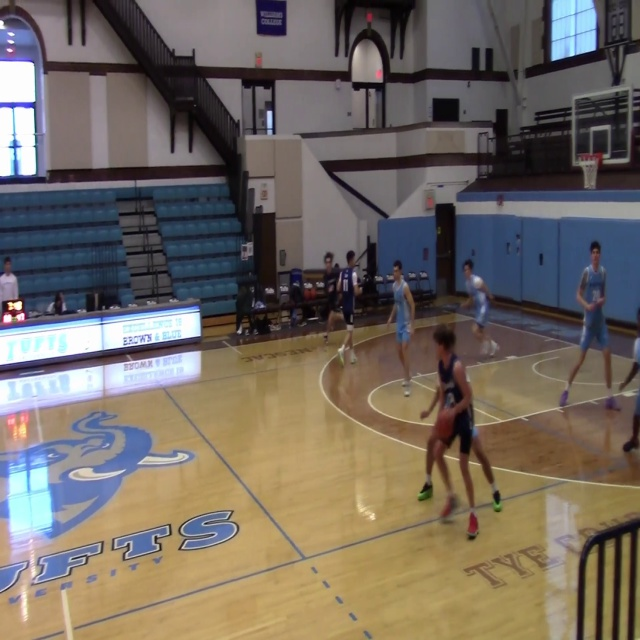Basketball: (434, 408, 456, 442)
